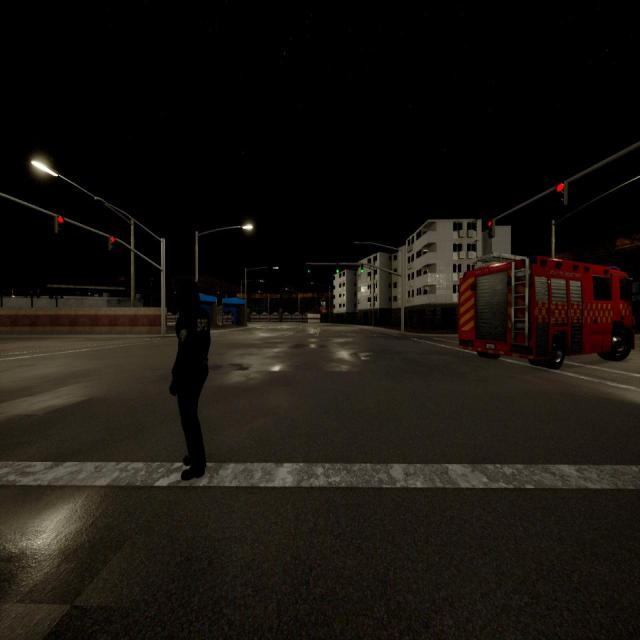Pedestrian: (169, 281, 210, 480)
Vehicle: (458, 256, 634, 366)
traffic_light: (557, 182, 567, 207), (55, 216, 63, 233), (488, 220, 494, 237), (109, 237, 115, 250), (336, 264, 339, 272), (308, 265, 310, 273), (361, 264, 363, 272)
